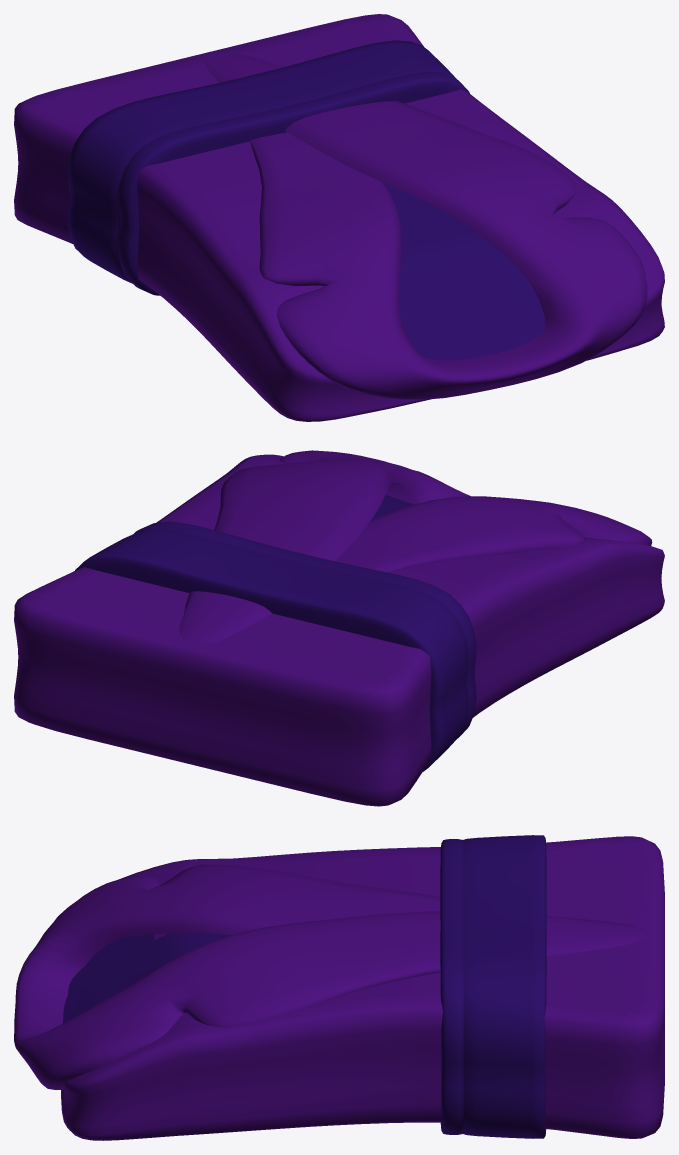
The model's file is Gown.FBX.
3 renders of one model, top to bottom at view 1: azimuth 30°, elevation 25°; view 2: azimuth 150°, elevation 25°; view 3: azimuth 270°, elevation 25°, orthographic. The views are drawn at different scales.
Parts seen in each view (by area): view 1: Gown; view 2: Gown; view 3: Gown.
Part boxes in pixels (bbox=[...]): Gown: bbox=[14, 14, 664, 421]; Gown: bbox=[14, 450, 664, 806]; Gown: bbox=[14, 835, 664, 1140].
Size of the model in its own units: 46.39 by 18.26 by 66.2.
